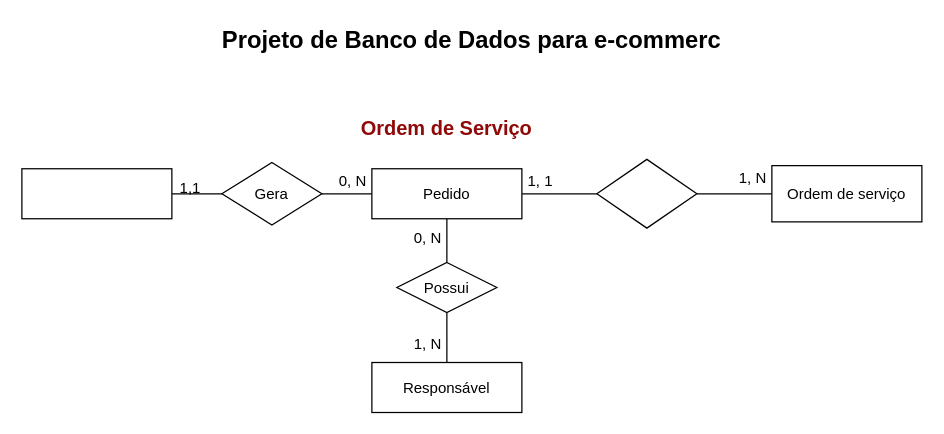
Image size: 944x434. Some labels were removed from this diagram. Each missing label, with the box of its shape:
Cliente: (21, 168, 172, 219)
Executa: (596, 158, 697, 228)
